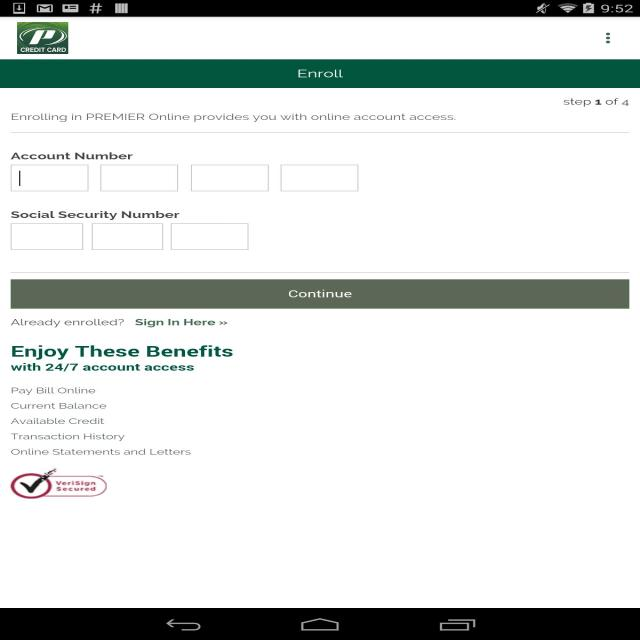button: (11, 280, 630, 308), (597, 29, 621, 50)
field: (14, 164, 86, 192), (102, 164, 178, 190), (192, 165, 268, 191), (282, 164, 358, 190), (12, 223, 84, 249), (92, 224, 162, 250), (172, 226, 245, 248)
heading: (10, 208, 180, 220), (10, 151, 134, 162), (297, 68, 347, 83)
image: (15, 23, 70, 53)
text: (7, 384, 204, 458), (8, 344, 235, 375), (7, 111, 459, 124), (8, 318, 234, 330), (562, 97, 635, 108)
